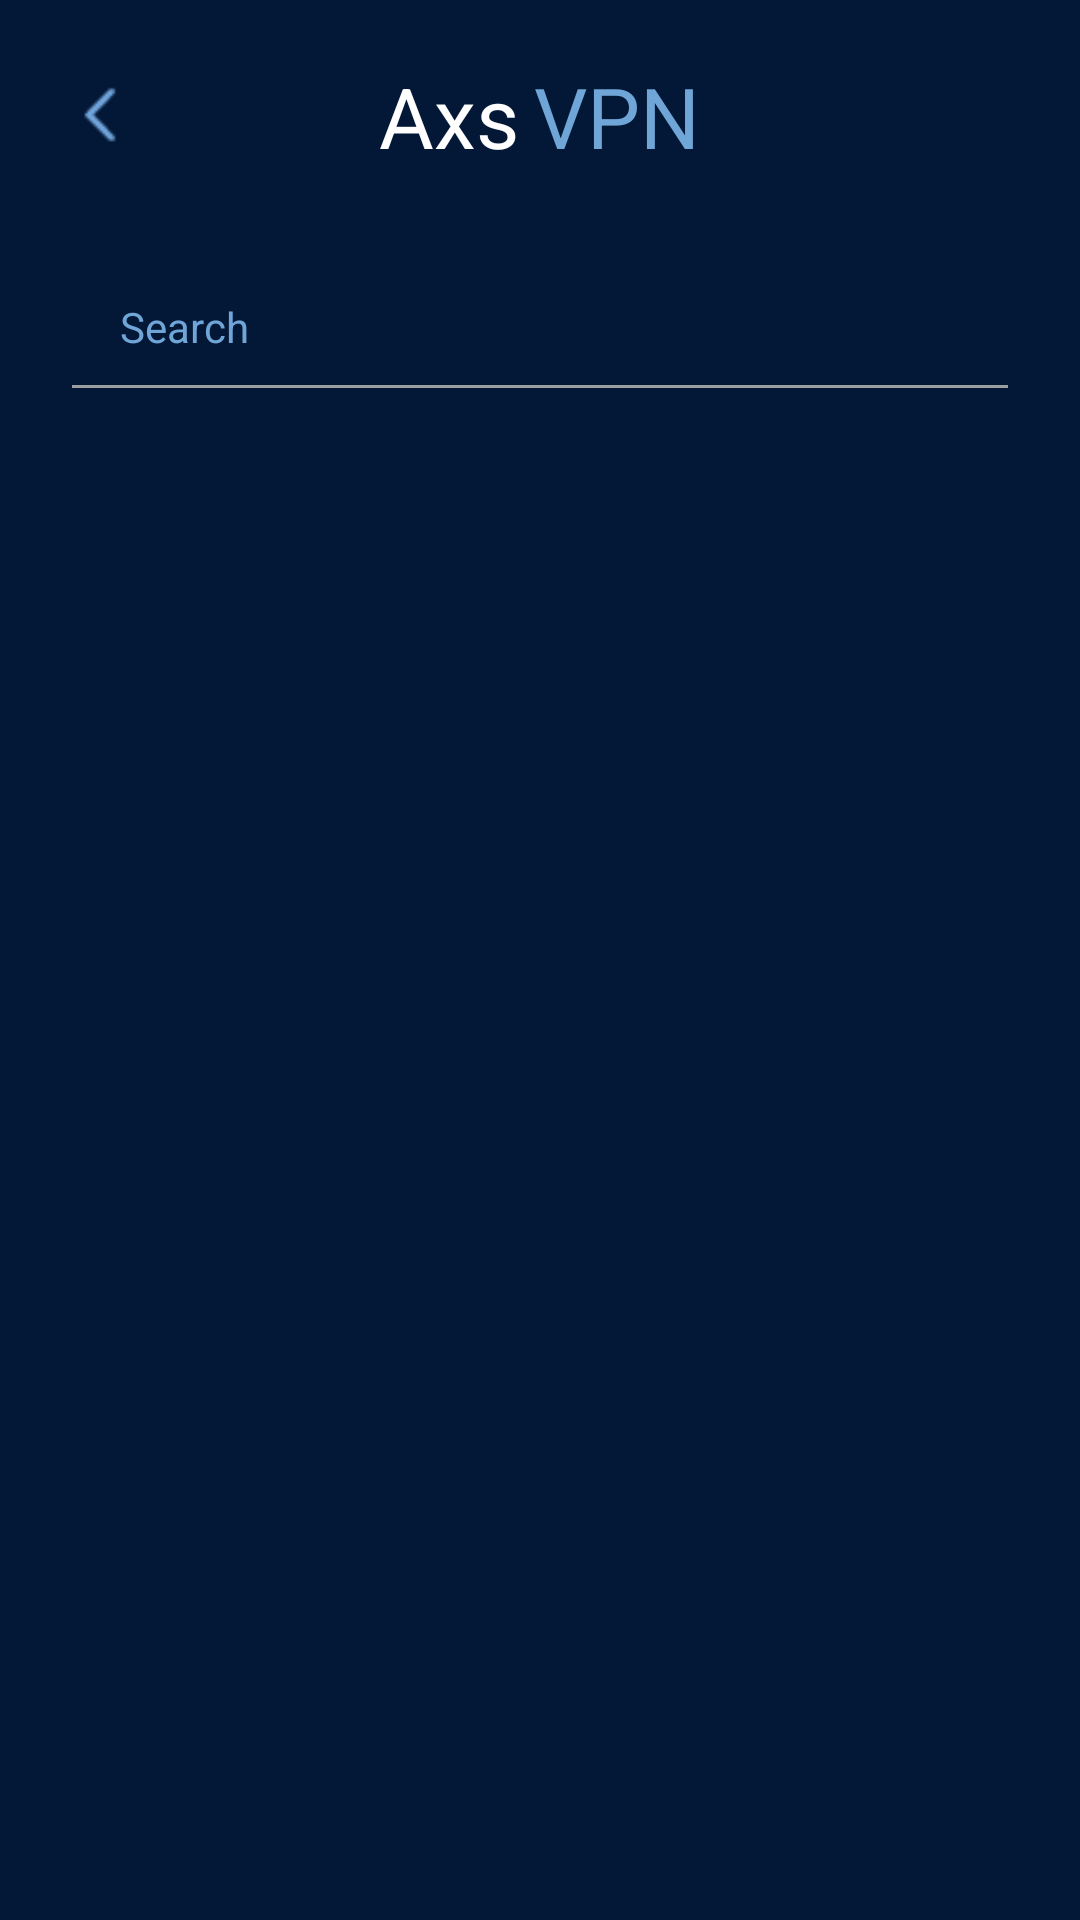

Where icons sit on this 1080×1920 app screen, as (x1, y1, x2, y2):
back: (84, 88, 116, 142)
